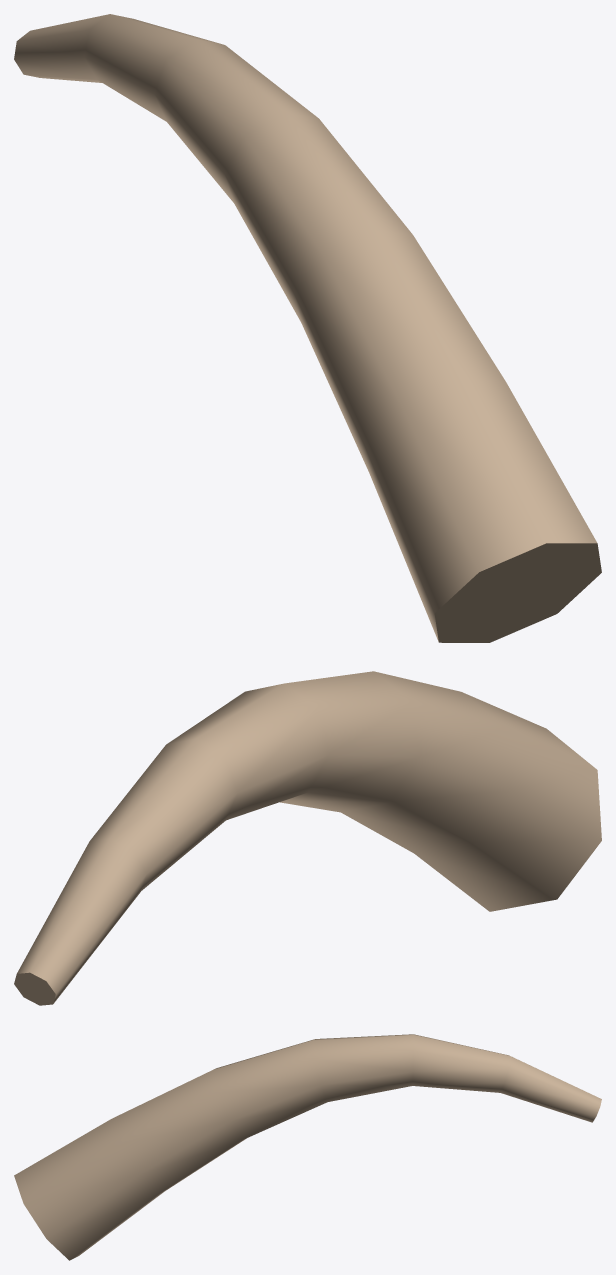
File: cr_tail_a.fbx
3 views of the same model, one above another, from view 1: azimuth 30°, elevation 25°; view 2: azimuth 150°, elevation 25°; view 3: azimuth 270°, elevation 25° (orthographic). The views are drawn at different scales.
Visible parts, largest first — view 1: Tail; view 2: Tail; view 3: Tail.
Part boxes in pixels (x1,y1,x2,y2): Tail: [14, 14, 601, 642]; Tail: [14, 671, 601, 1005]; Tail: [14, 1034, 601, 1260].
Size of the model in its own units: 0.16 by 0.3545 by 0.8552.
